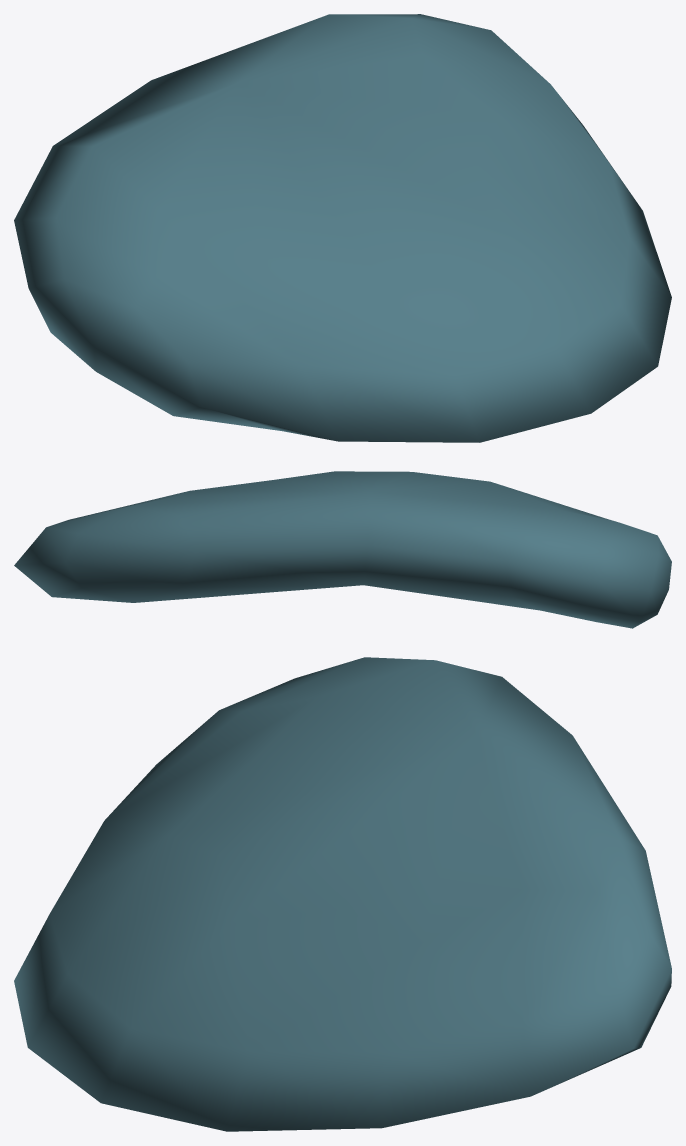
File: Extensor_digitorum_5th_distal_phalanx_left.glb
3 views of the same model, one above another, from view 1: azimuth 30°, elevation 25°; view 2: azimuth 150°, elevation 25°; view 3: azimuth 270°, elevation 25° (orthographic). The views are drawn at different scales.
Parts seen in each view (by area): view 1: Extensor_digitorum_on_5th_distal_phalanx.l_Generated_Mesh_Fr; view 2: Extensor_digitorum_on_5th_distal_phalanx.l_Generated_Mesh_Fr; view 3: Extensor_digitorum_on_5th_distal_phalanx.l_Generated_Mesh_Fr.
Boxes of the visible parts, x1,y1,x2,y2 form: Extensor_digitorum_on_5th_distal_phalanx.l_Generated_Mesh_Fr: (14, 14, 671, 442); Extensor_digitorum_on_5th_distal_phalanx.l_Generated_Mesh_Fr: (14, 471, 671, 628); Extensor_digitorum_on_5th_distal_phalanx.l_Generated_Mesh_Fr: (14, 657, 671, 1131).
Size of the model in its own units: 0.00286 by 0.000989 by 0.00234.
